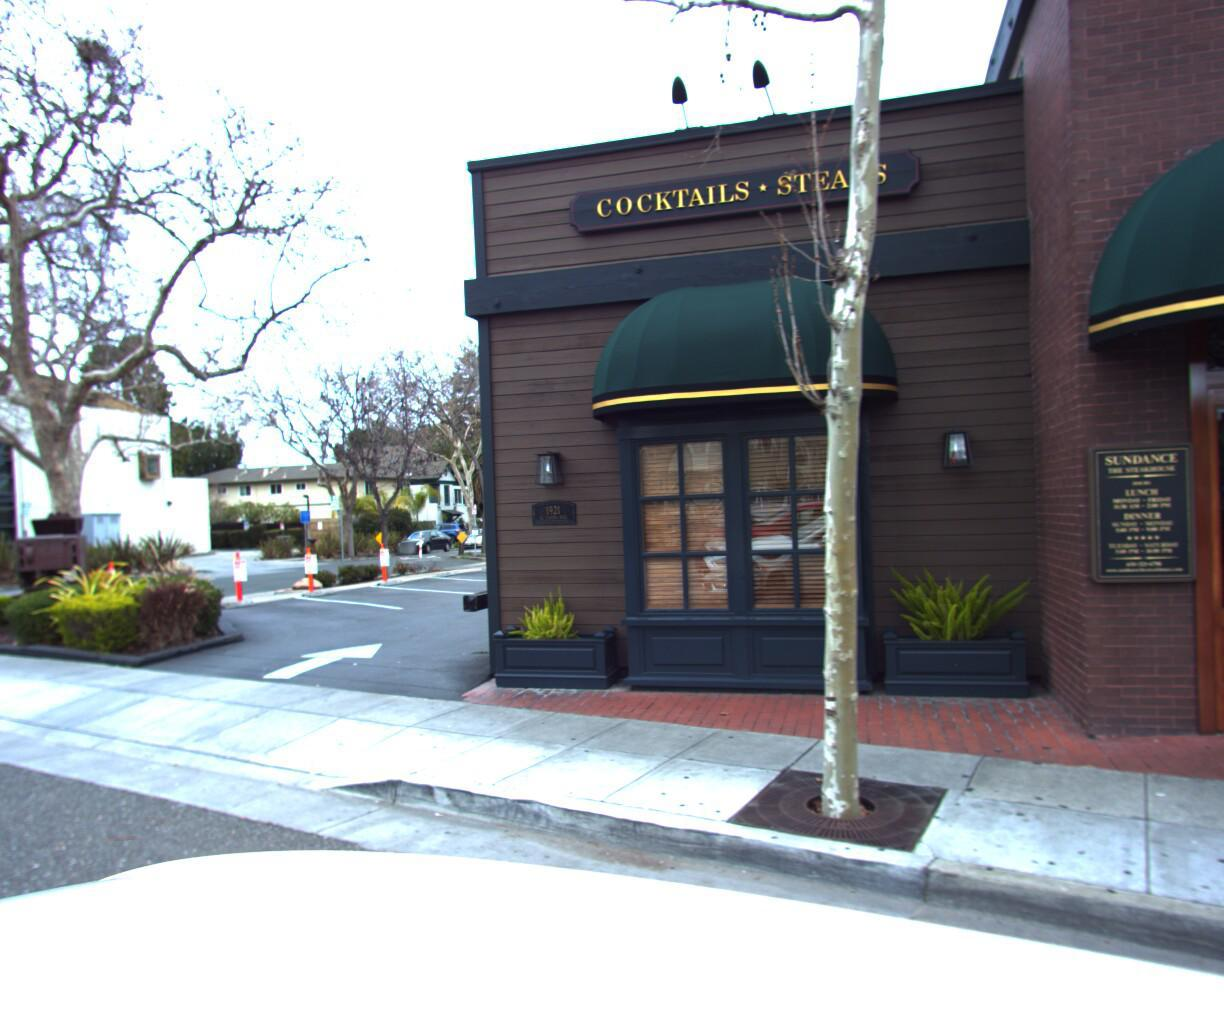car: (394, 530, 462, 558), (460, 528, 513, 553), (443, 524, 481, 545)
